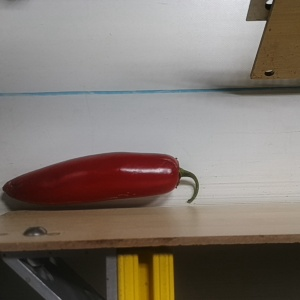Cut Point: (162, 154, 190, 194)
